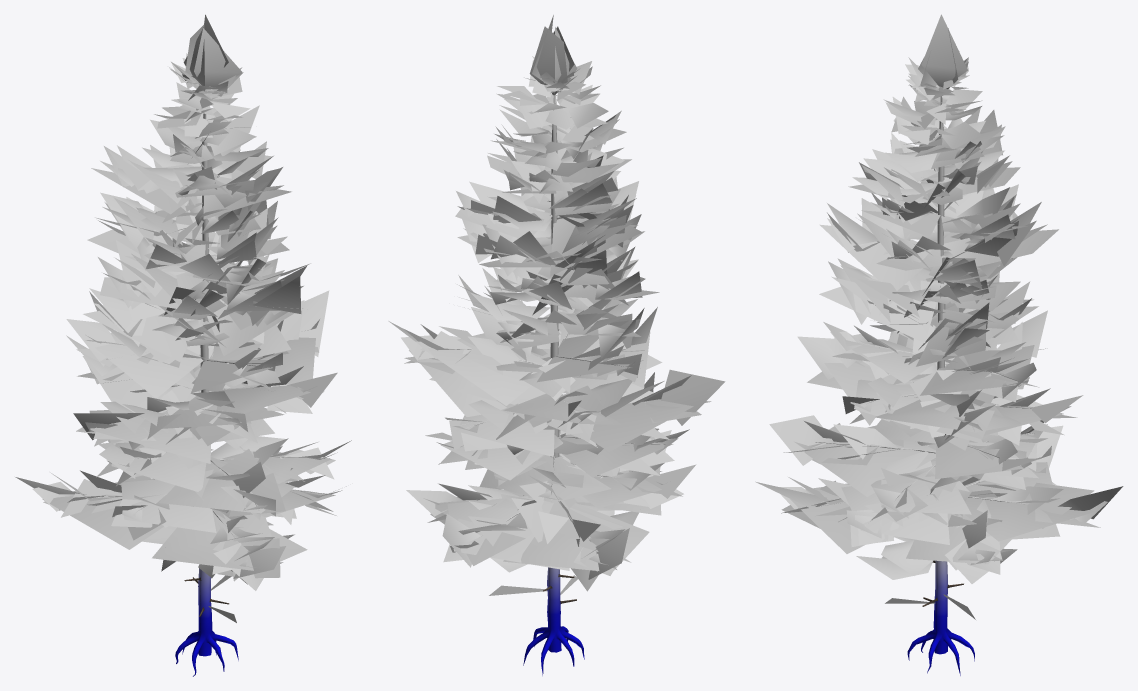
Rendered from Tree7_LOD1.fbx.
The picture shows the model from 3 angles, left to right: view 1: azimuth 30°, elevation 25°; view 2: azimuth 150°, elevation 25°; view 3: azimuth 270°, elevation 25°; orthographic projection.
Parts seen in each view (by area): view 1: polySurface3162; view 2: polySurface3162; view 3: polySurface3162.
Part boxes in pixels (box(x1,y1,x2,y2)): polySurface3162: box(15, 14, 351, 676); polySurface3162: box(388, 15, 725, 675); polySurface3162: box(755, 14, 1123, 675).
Size of the model in its own units: 439 by 921 by 472.
